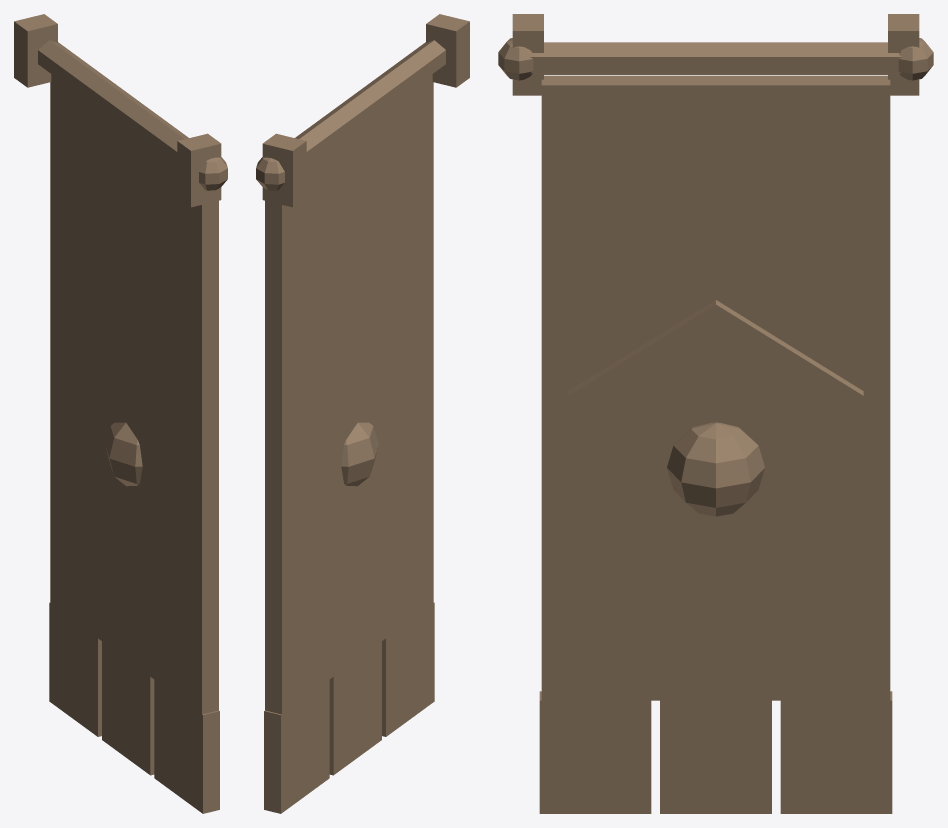
File: aldrich_court_banner_wall.fbx
3 views of the same model, side by side, from view 1: azimuth 30°, elevation 25°; view 2: azimuth 150°, elevation 25°; view 3: azimuth 270°, elevation 25° (orthographic). The views are drawn at different scales.
Visible parts, largest first — view 1: aldrich_court_banner_wall; view 2: aldrich_court_banner_wall; view 3: aldrich_court_banner_wall.
Part boxes in pixels (x1=…): aldrich_court_banner_wall: x1=14, y1=14, x2=227, y2=813; aldrich_court_banner_wall: x1=256, y1=14, x2=469, y2=813; aldrich_court_banner_wall: x1=498, y1=14, x2=933, y2=813.
Bounding box in the file's own units: 0.24 × 1.92 × 0.9751.
